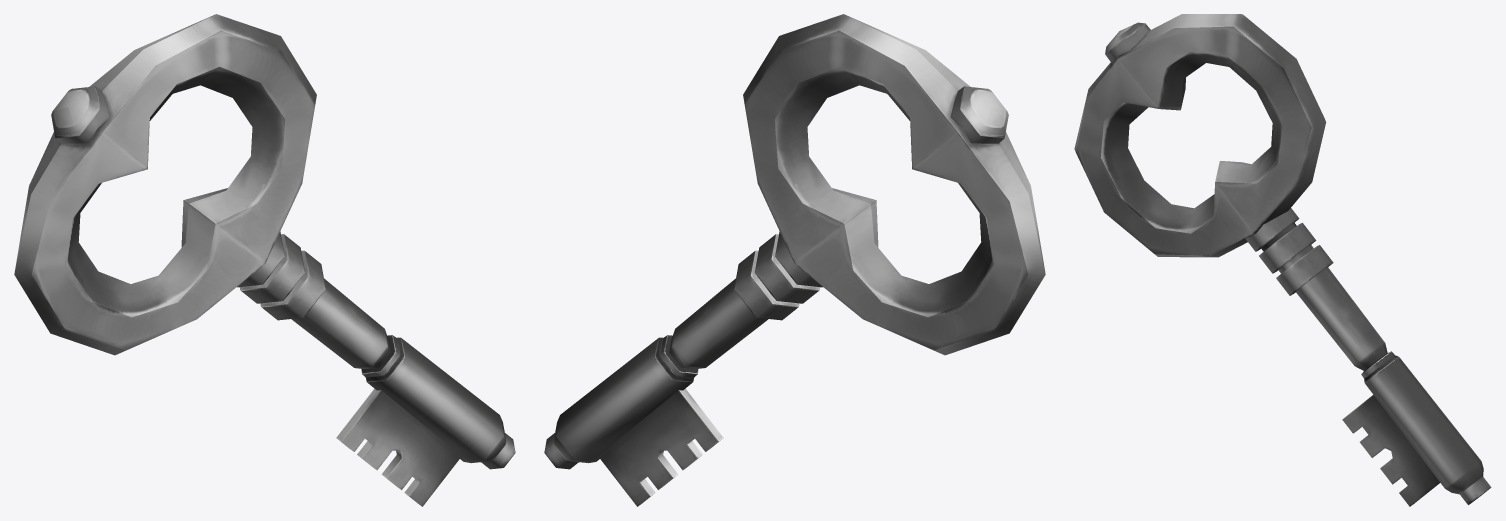
File: 47_Silver key.FBX
3 renders of one model, left to right at view 1: azimuth 30°, elevation 25°; view 2: azimuth 150°, elevation 25°; view 3: azimuth 330°, elevation 25°, orthographic. The views are drawn at different scales.
Visible parts, largest first — view 1: 47_silver key; view 2: 47_silver key; view 3: 47_silver key.
Boxes of the visible parts, <box> form: 47_silver key: <box>14,14,515,506</box>; 47_silver key: <box>544,14,1045,506</box>; 47_silver key: <box>1074,14,1491,506</box>.
Bounding box in the file's own units: 41.09 × 42.56 × 5.17.
